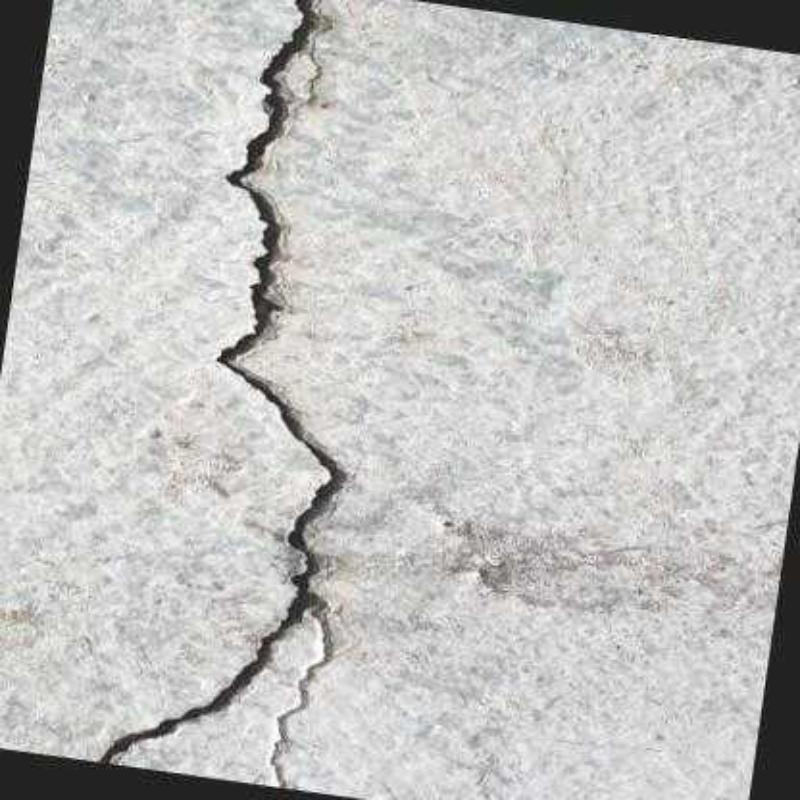pothole: (92, 3, 345, 766), (271, 609, 330, 790), (306, 27, 333, 106)
